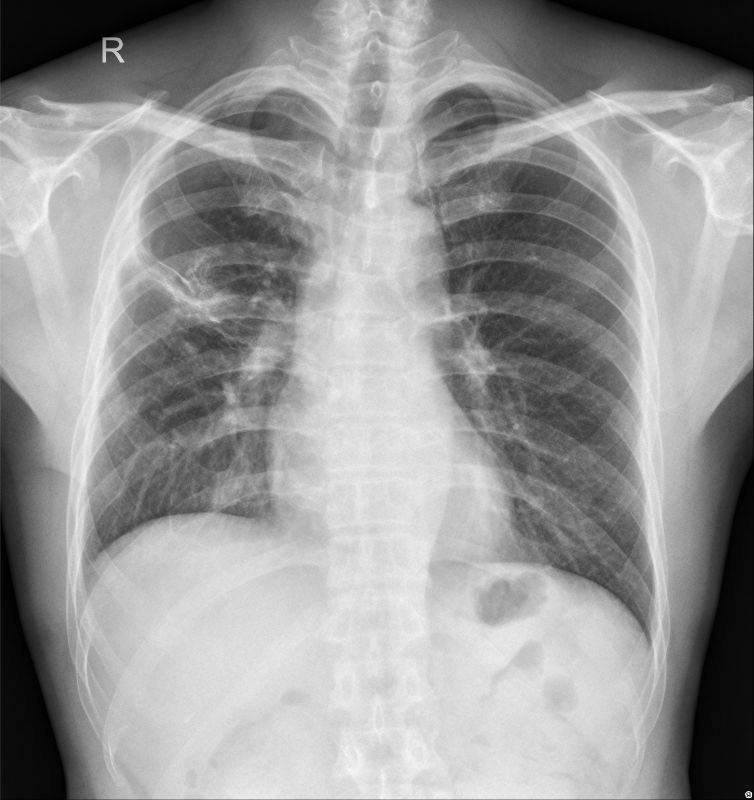Tuberculosis (TB): (129, 239, 244, 361)
